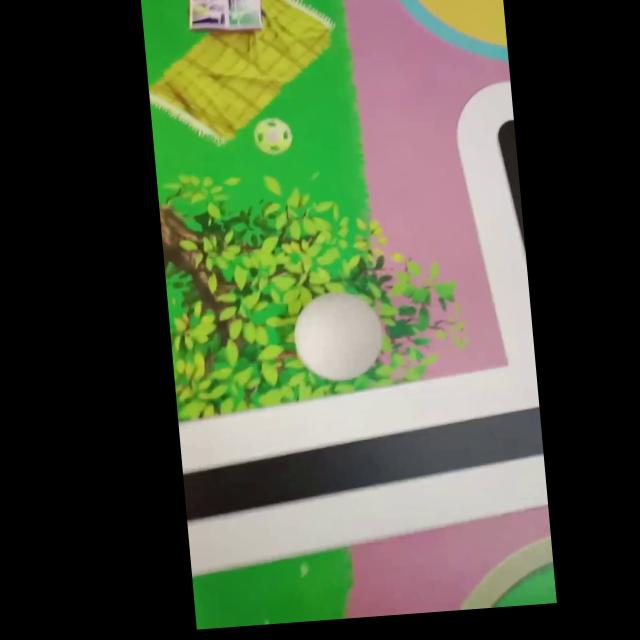white ball: (289, 288, 386, 385)
